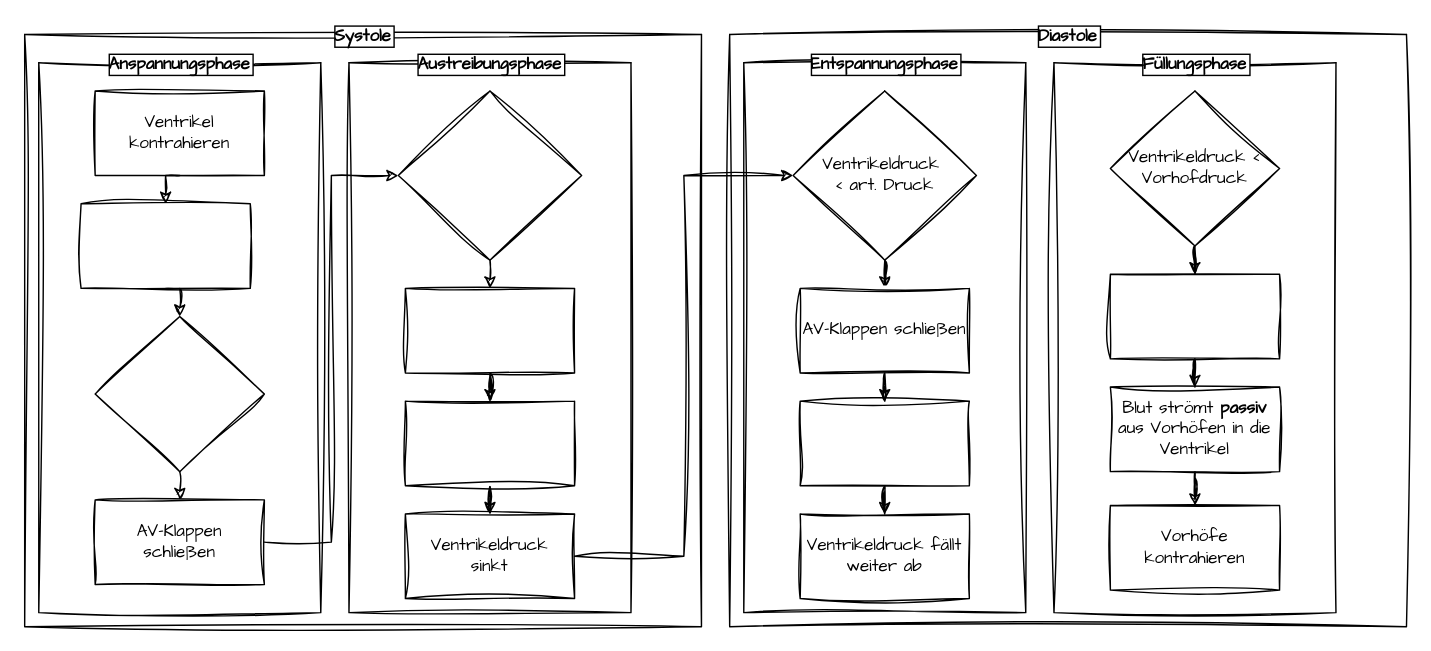
Image size: 1431x651. Some labels were removed from this diagram. Here are the shapes that lost their labels. From the top down, the centre of each, then its label:
pixel 489 175: Ventrikeldruck > art. Druck
pixel 165 245: Ventrikeldruck steigt
pixel 489 330: Aortenklappe / Pulmonalklappe öffnen
pixel 1194 316: AV-Klappen öffnen sich
pixel 179 393: Ventrikeldruck > Vorhofdruck
pixel 489 443: Blut strömt aus den Ventrikeln
pixel 884 443: Ventrikel "entspannen" sich
